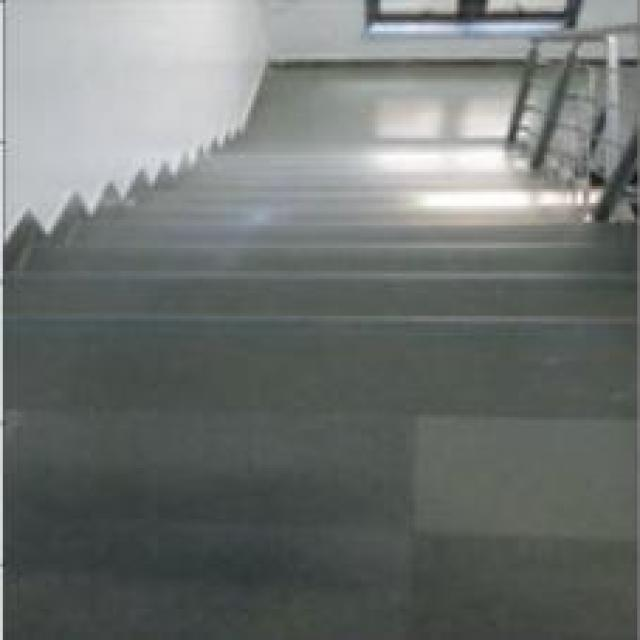downstair: (54, 181, 534, 393)
